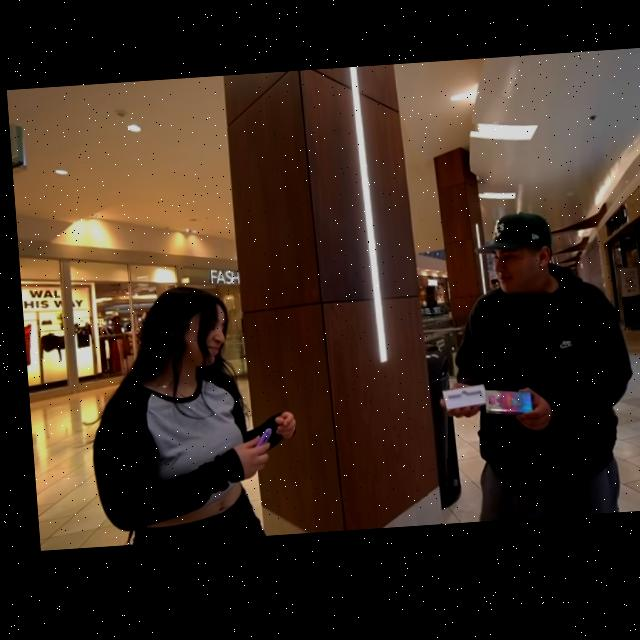vape: (246, 430, 267, 452)
